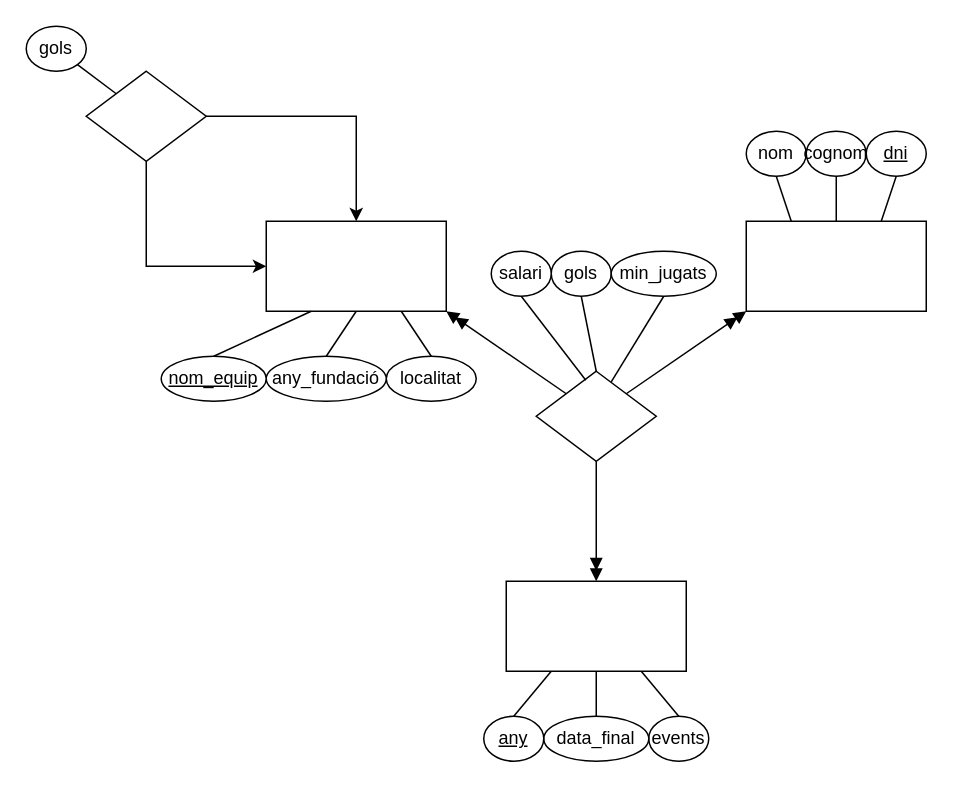
Image size: 953x788. Some labels were removed from this diagram. The shapes that lost their labels are listed below. From the top down, each one's centre as x and y in pixels, then its label:
the point at 145,115: Juga_Partit
the point at 355,265: EQUIP
the point at 835,265: JUGADOR
the point at 595,415: Pertany
the point at 595,625: TEMPORADA
